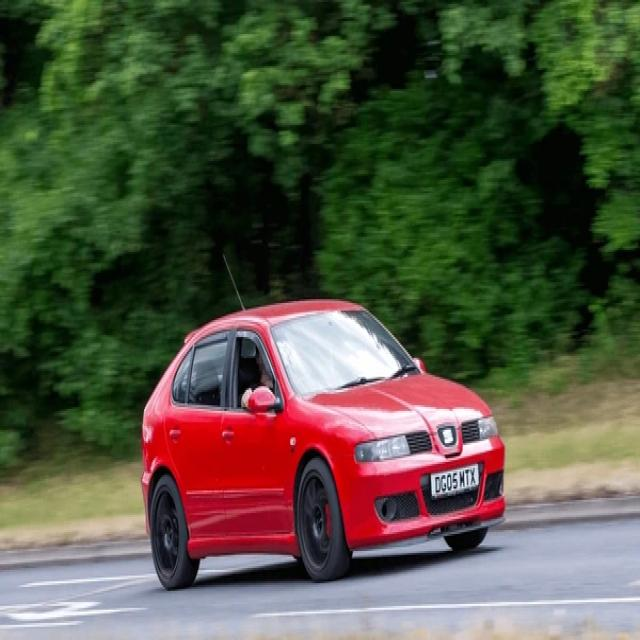seat: (442, 424, 456, 449)
